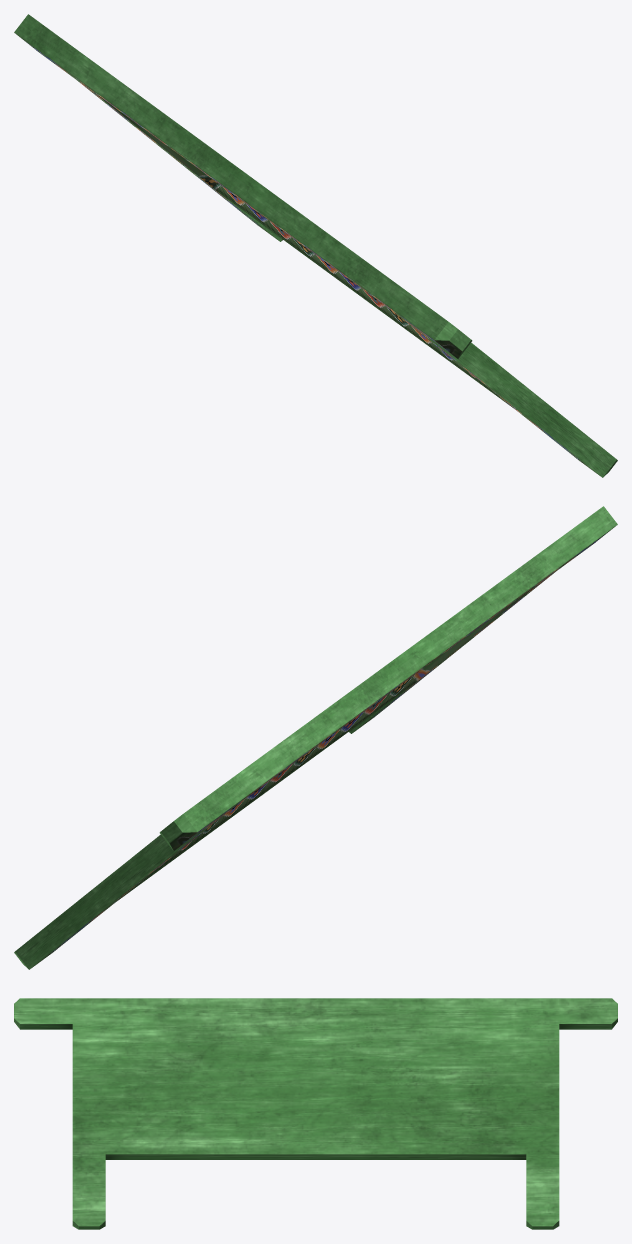
File: SM_R_Sign_4.fbx
3 renders of one model, top to bottom at view 1: azimuth 30°, elevation 25°; view 2: azimuth 150°, elevation 25°; view 3: azimuth 270°, elevation 25°, orthographic. The views are drawn at different scales.
Parts seen in each view (by area): view 1: SM_R_Sign_4; view 2: SM_R_Sign_4; view 3: SM_R_Sign_4.
Part boxes in pixels (<box>): SM_R_Sign_4: <box>14,14,617,477</box>; SM_R_Sign_4: <box>14,506,617,969</box>; SM_R_Sign_4: <box>14,998,617,1229</box>.
Size of the model in its own units: 185 by 609 by 180.
1 material, 1 textured.
